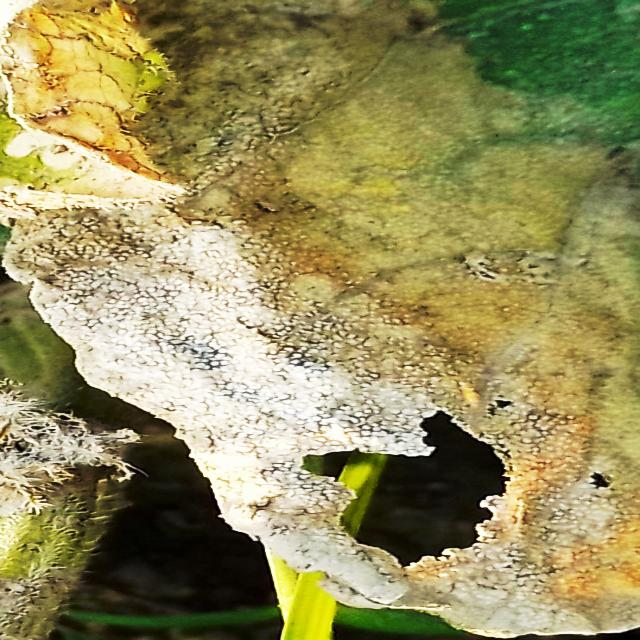Anthracnose: (296, 390, 518, 573), (584, 458, 617, 498)
